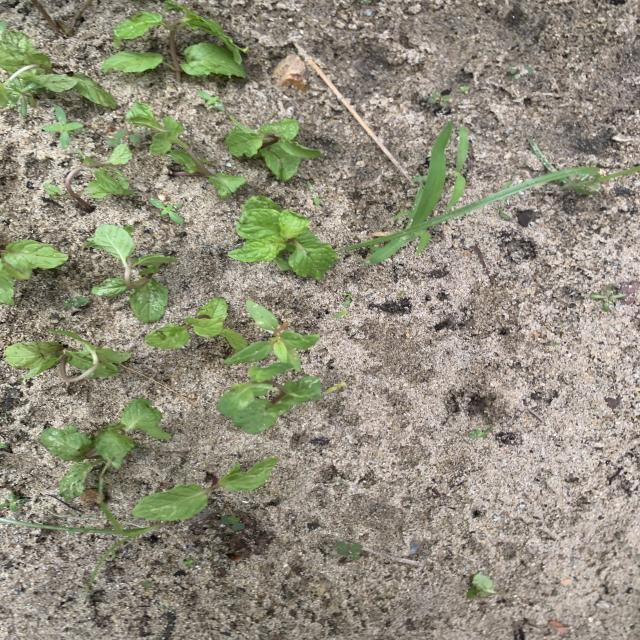crop: (41, 399, 171, 499), (126, 102, 247, 198), (112, 2, 247, 76), (2, 25, 115, 107), (134, 458, 279, 520), (229, 196, 337, 279), (88, 225, 175, 322), (217, 364, 320, 434), (5, 329, 130, 383), (226, 301, 319, 373), (225, 118, 323, 179), (145, 298, 247, 353), (44, 149, 133, 211), (1, 241, 66, 303)
weed: (351, 140, 621, 261), (0, 518, 157, 591), (85, 526, 155, 593), (446, 126, 468, 210), (44, 106, 83, 147), (3, 76, 40, 115), (590, 285, 623, 311), (149, 198, 183, 223), (107, 130, 139, 147), (198, 90, 223, 110), (1, 493, 26, 511), (336, 542, 362, 559), (428, 91, 450, 110), (221, 515, 243, 531), (469, 427, 491, 439), (308, 182, 319, 206), (333, 302, 349, 318), (64, 296, 87, 307), (326, 382, 343, 391), (184, 559, 194, 565), (1, 442, 7, 448), (398, 291, 406, 295)
